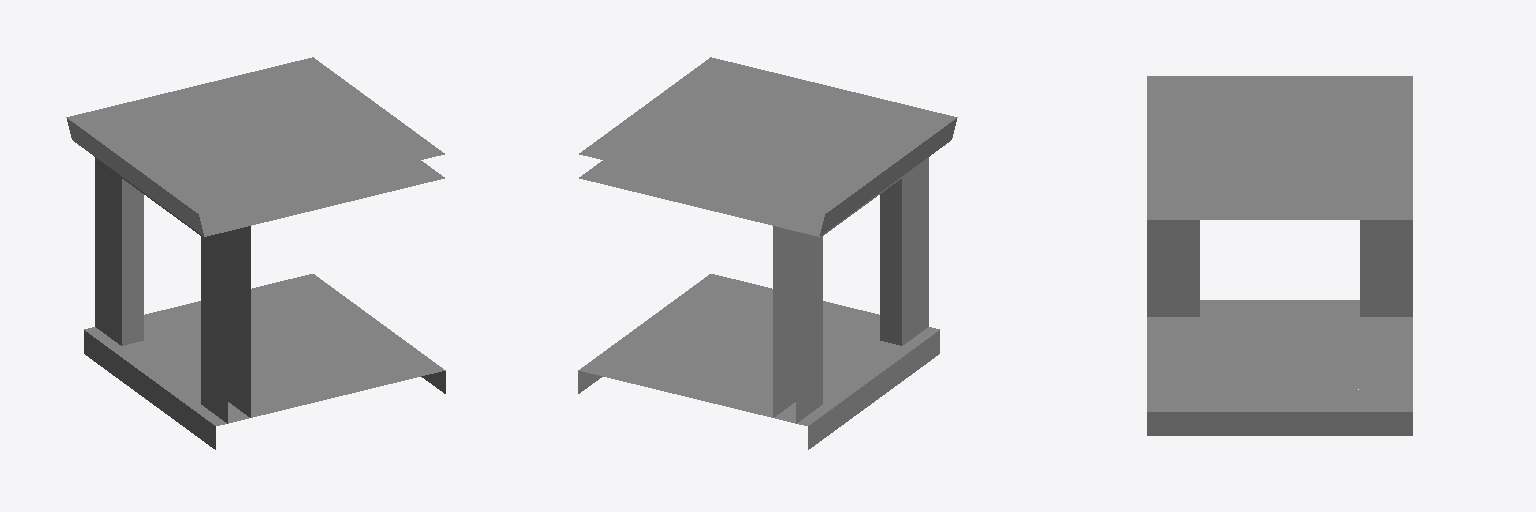
The picture shows the model from 3 angles: view 1: azimuth 30°, elevation 25°; view 2: azimuth 150°, elevation 25°; view 3: azimuth 270°, elevation 25°; orthographic projection.
Visible parts, largest first — view 1: objobjobjDuplicate422b; view 2: objobjobjDuplicate422b; view 3: objobjobjDuplicate422b.
Boxes of the visible parts, <box> form: objobjobjDuplicate422b: <box>66,57,445,449</box>; objobjobjDuplicate422b: <box>578,57,957,449</box>; objobjobjDuplicate422b: <box>1147,76,1412,435</box>.
Bounding box in the file's own units: 10.75 × 10 × 10.